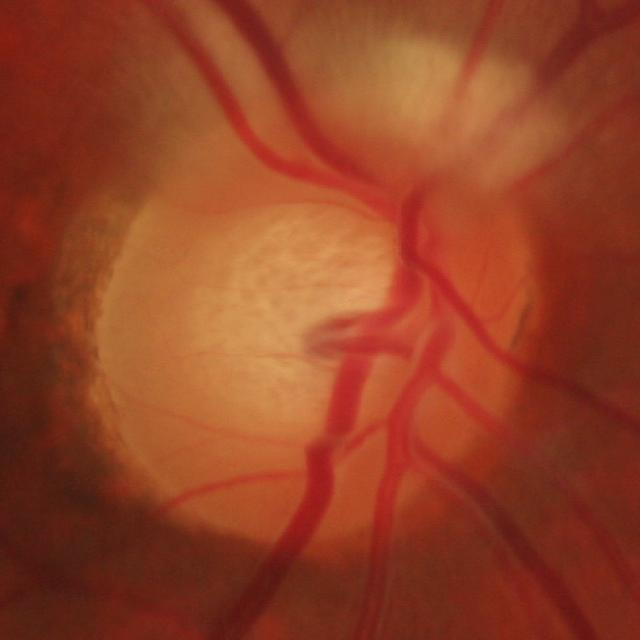OC: (181, 198, 406, 434)
OD: (85, 147, 539, 556)
